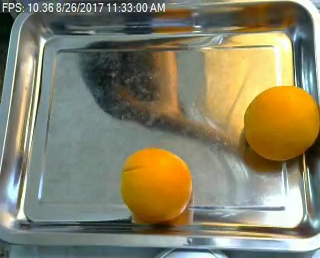Orange: (242, 85, 319, 159), (120, 145, 192, 218)
